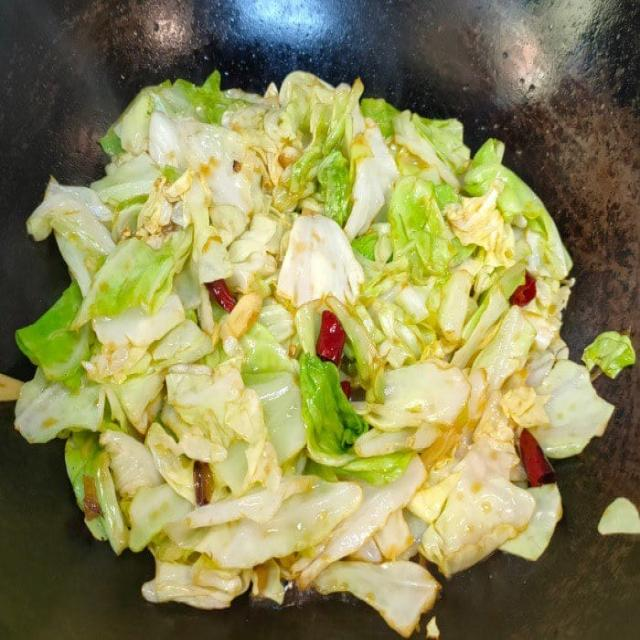bap cai xao: (0, 72, 634, 635)
